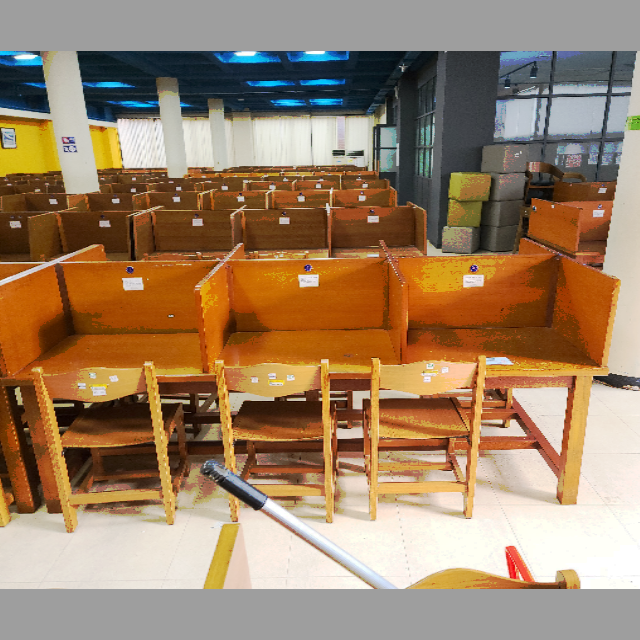empty: (401, 254, 611, 448), (1, 257, 210, 418), (212, 261, 402, 423)
